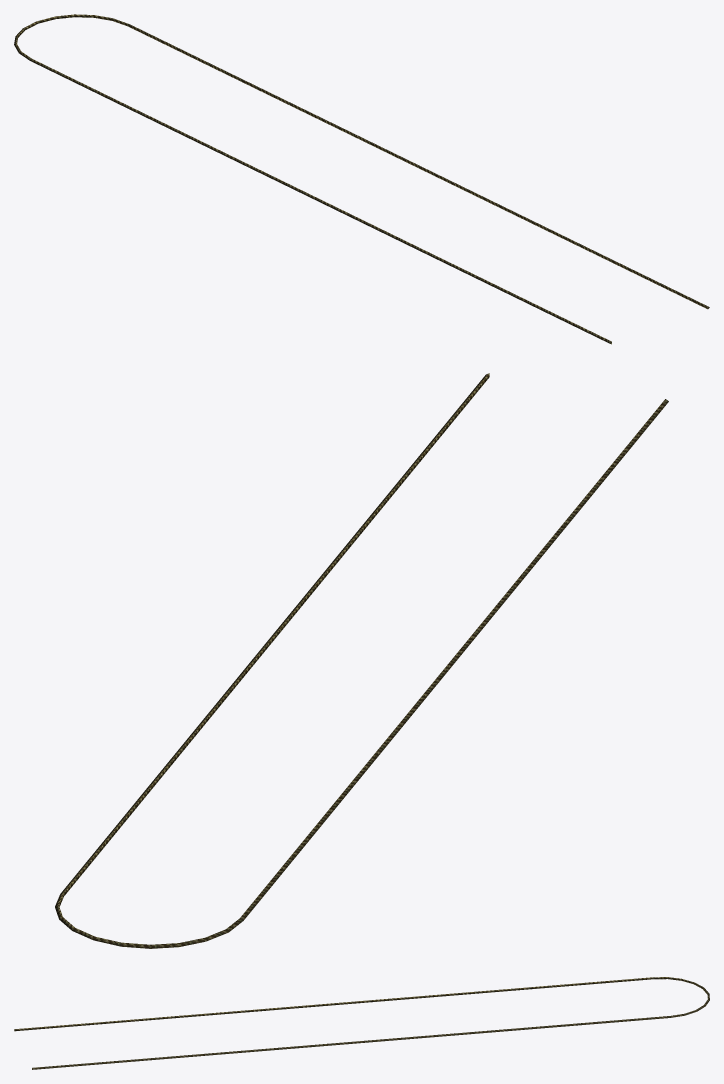
The model's file is SWORDLIGHT20_ROPE7.fbx.
The picture shows the model from 3 angles, top to bottom: view 1: azimuth 30°, elevation 25°; view 2: azimuth 150°, elevation 25°; view 3: azimuth 270°, elevation 25°; orthographic projection. The views are drawn at different scales.
Visible parts, largest first — view 1: SWORDLIGHT20_ROPE7; view 2: SWORDLIGHT20_ROPE7; view 3: SWORDLIGHT20_ROPE7.
Part boxes in pixels (bbox=[...]): SWORDLIGHT20_ROPE7: bbox=[14, 14, 709, 344]; SWORDLIGHT20_ROPE7: bbox=[55, 373, 668, 948]; SWORDLIGHT20_ROPE7: bbox=[14, 977, 709, 1069].
Bounding box in the file's own units: 60534 × 633 × 192606.
Materials: 1 (1 with a texture image).
